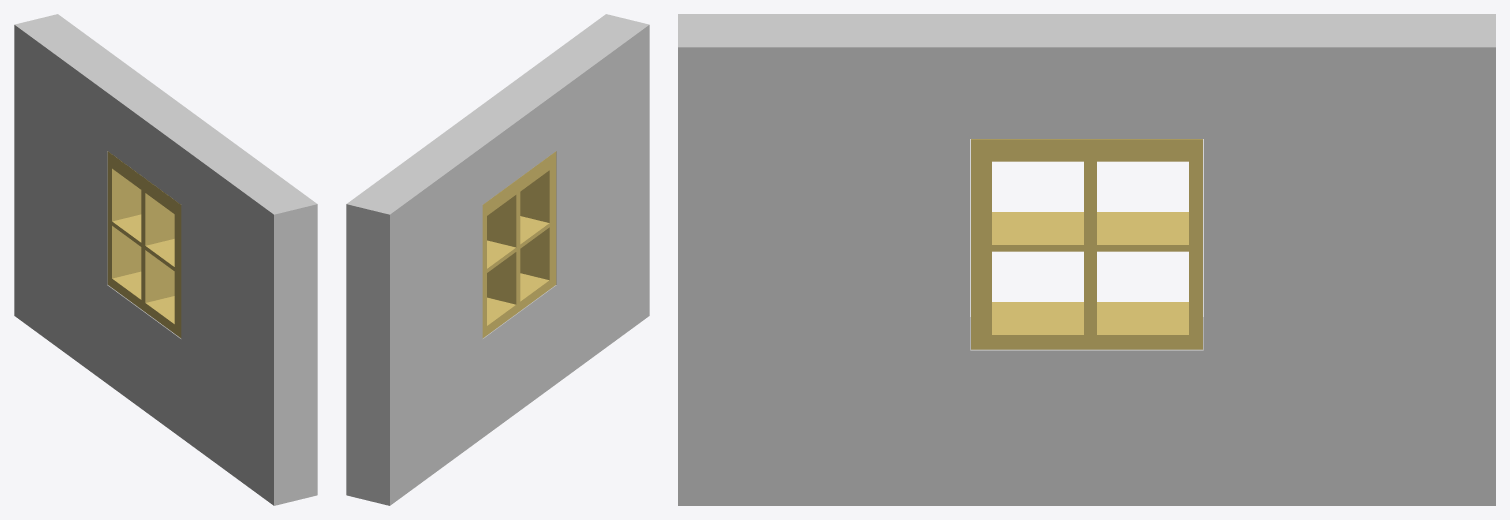
The model's file is window.glb.
3 views of the same model, side by side, from view 1: azimuth 30°, elevation 25°; view 2: azimuth 150°, elevation 25°; view 3: azimuth 270°, elevation 25° (orthographic). The views are drawn at different scales.
Parts seen in each view (by area): view 1: Cube, Cube.001; view 2: Cube, Cube.001; view 3: Cube, Cube.001.
Boxes of the visible parts, x1,y1,x2,y2 form: Cube: (14,14,317,505); Cube.001: (107,151,181,338); Cube: (346,14,649,505); Cube.001: (482,151,556,338); Cube: (678,14,1495,505); Cube.001: (971,139,1202,349).
Size of the model in its own units: 0.6778 by 4.33 by 7.01.
